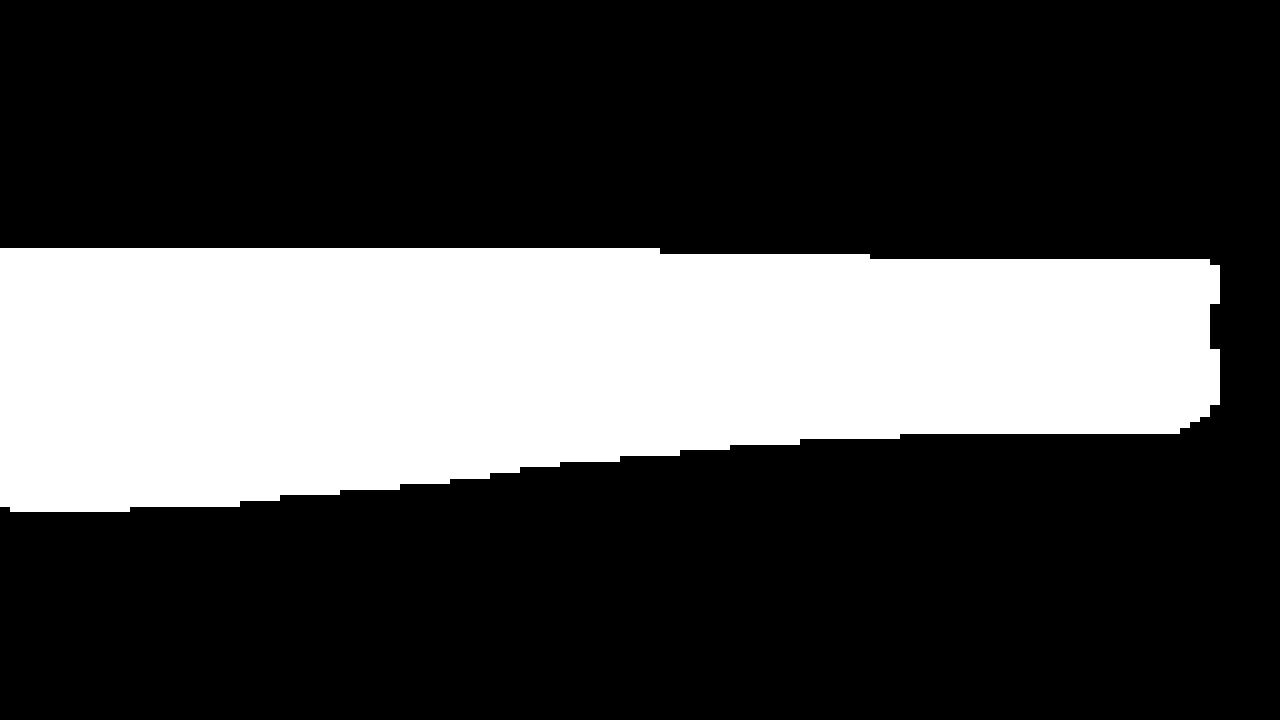Turbine: (14, 222, 1249, 523)
